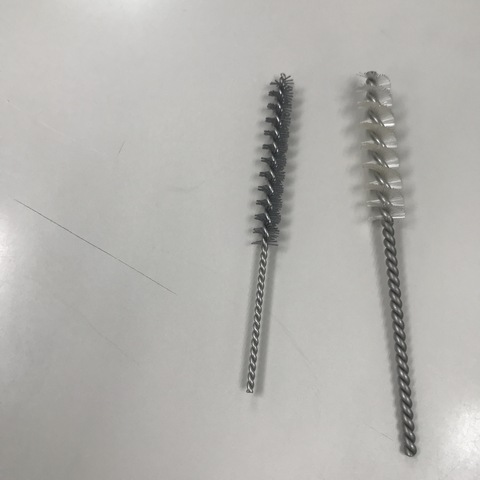Twist Brush-A: (237, 72, 293, 396)
Twist Brush-B: (344, 69, 441, 460)
